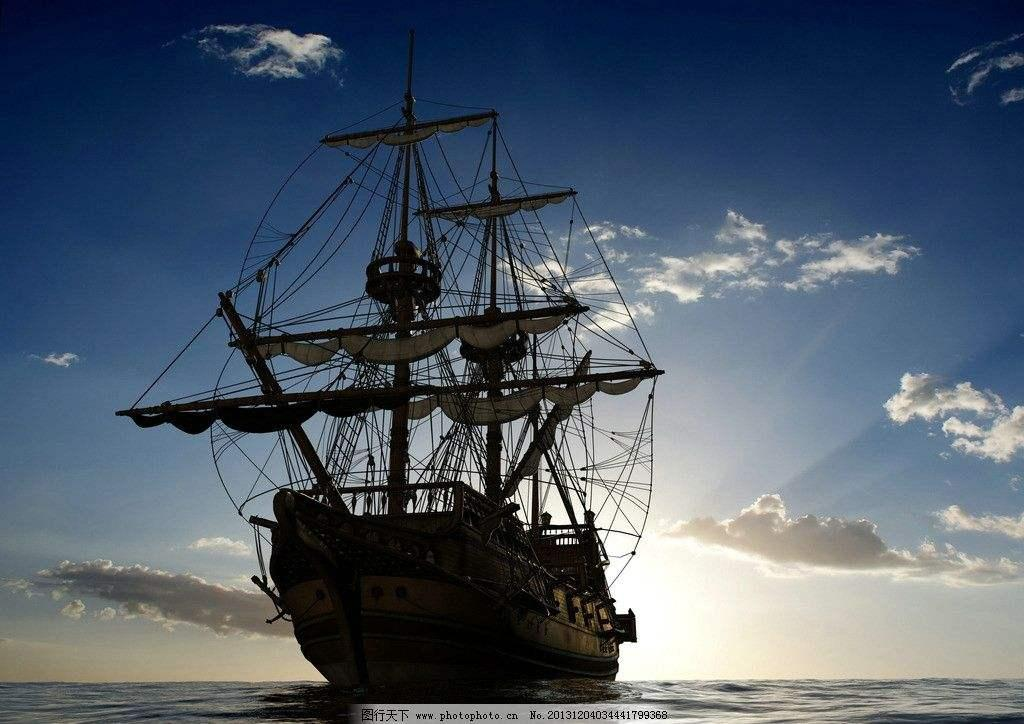fanchuan: (116, 54, 665, 685)
